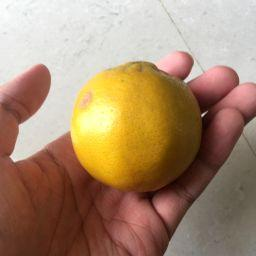Ripe: (71, 63, 202, 189)
